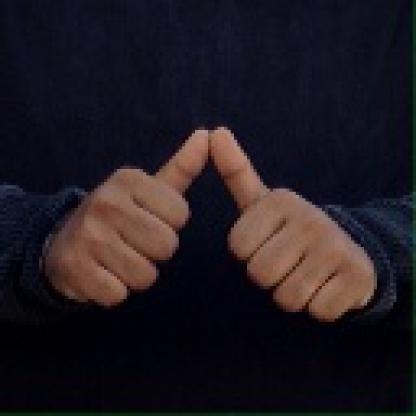A: (57, 122, 372, 322)
